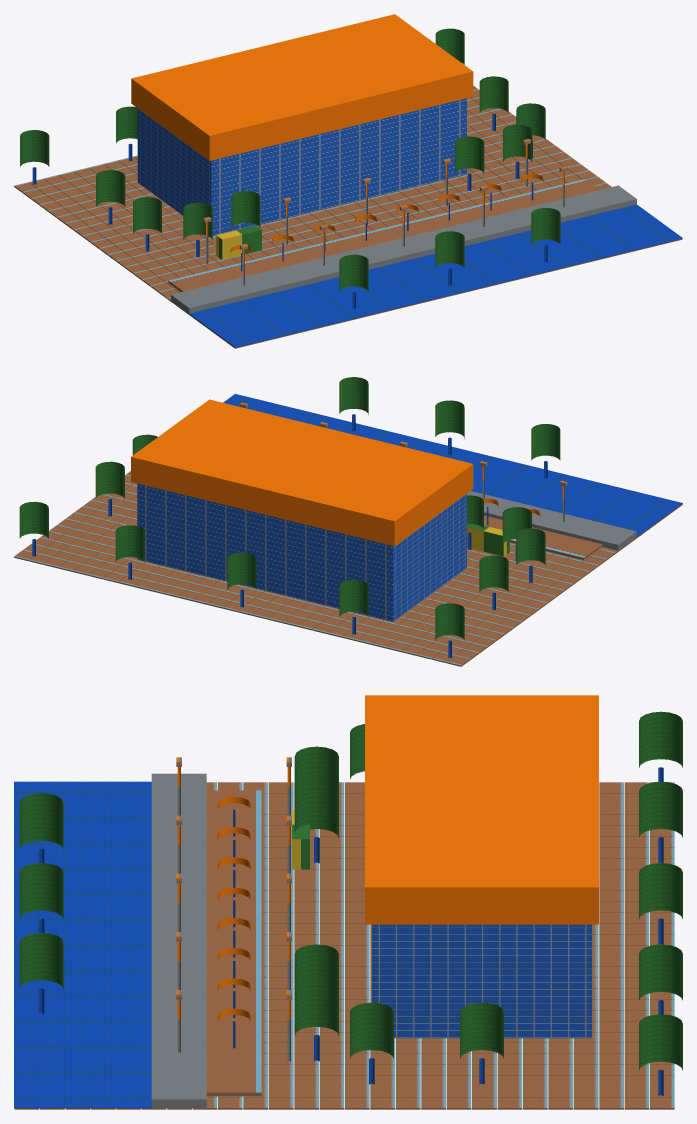
The picture shows the model from 3 angles, top to bottom: view 1: azimuth 30°, elevation 25°; view 2: azimuth 150°, elevation 25°; view 3: azimuth 270°, elevation 25°; orthographic projection. The views are drawn at different scales.
Visible parts, largest first — view 1: 28185_B48_Solchan_Caisson24_Observatory; view 2: 28185_B48_Solchan_Caisson24_Observatory; view 3: 28185_B48_Solchan_Caisson24_Observatory.
Boxes of the visible parts, left/top/right/bottom form: 28185_B48_Solchan_Caisson24_Observatory: left=14, top=14, right=682, bottom=348; 28185_B48_Solchan_Caisson24_Observatory: left=14, top=377, right=682, bottom=666; 28185_B48_Solchan_Caisson24_Observatory: left=14, top=695, right=682, bottom=1109.
Bounding box in the file's own units: 56 × 12.5 × 48.6.
1 material, 1 textured.
